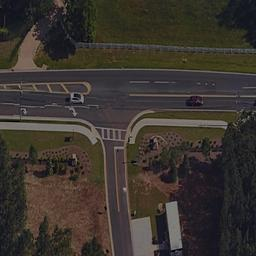Car: (185, 96, 204, 106), (67, 94, 85, 103)
Chevron: (1, 79, 91, 94)
Crosswalk: (96, 127, 127, 140)
Double Solid Yellow Line: (127, 91, 256, 99), (112, 148, 120, 212)
Right Turn Arrow: (65, 106, 78, 116), (19, 108, 27, 115)
Stop Line: (110, 144, 124, 149)
White Dashed Line: (124, 79, 253, 89), (1, 102, 100, 107)
